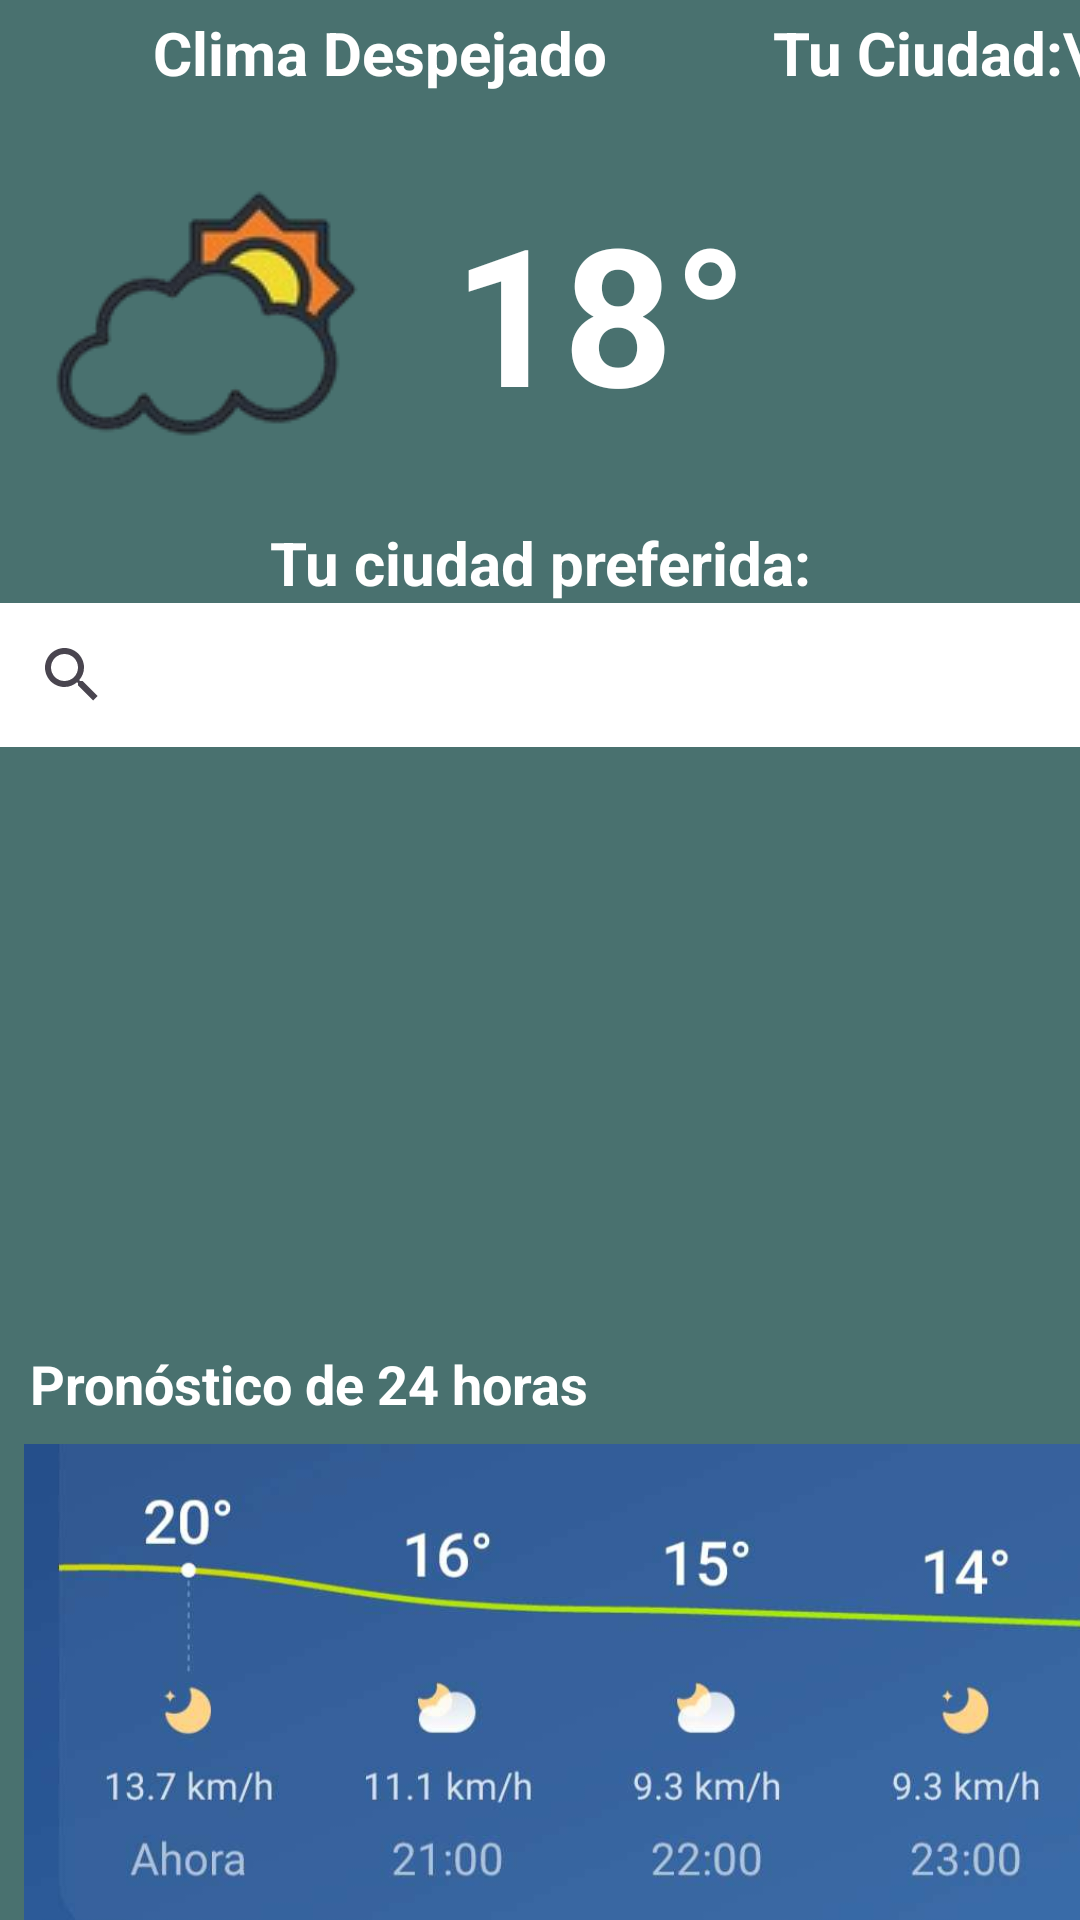

Named icons in this screenshot (1080*1920) and their bounding boxes, region(x1, y1, x2, y2):
tiempo: region(57, 193, 355, 435)
